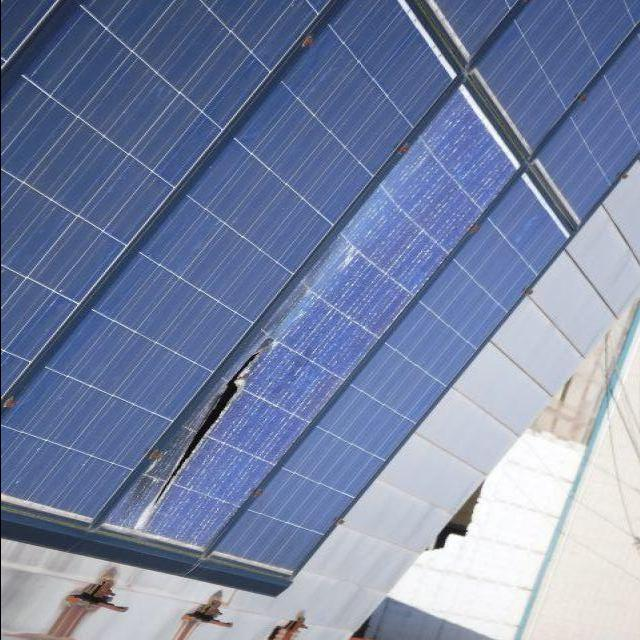cracked: (114, 87, 520, 555)
